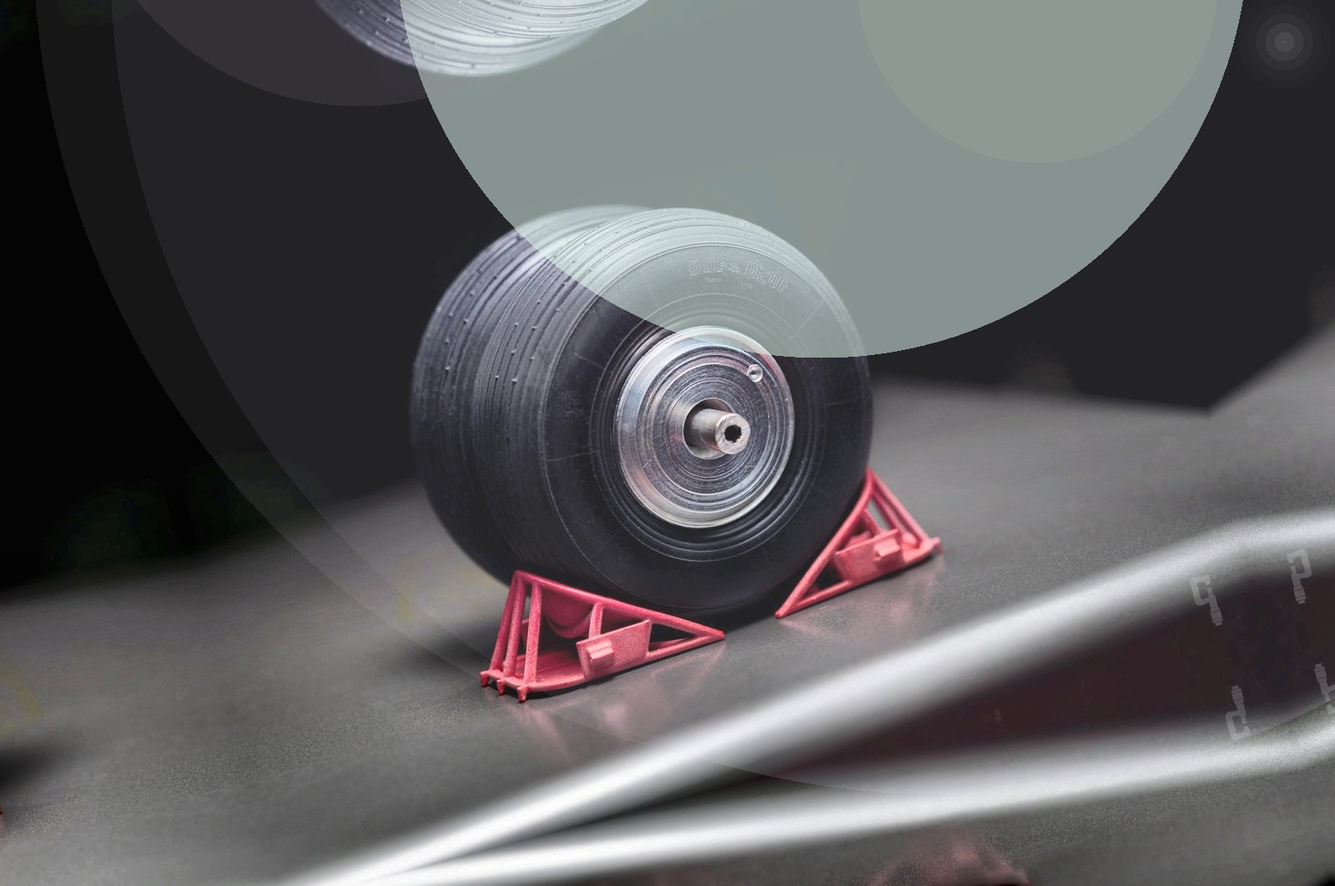chock: (457, 524, 729, 712), (739, 453, 951, 623)
wheel: (420, 164, 927, 687), (365, 179, 791, 663)
